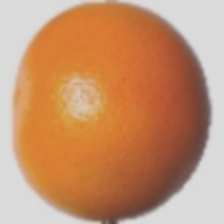grapes: (40, 0, 182, 198)
